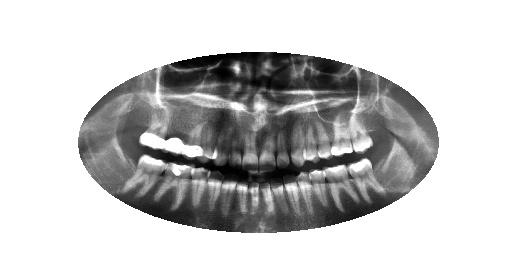Cavity: (219, 173, 238, 217), (258, 129, 277, 172), (243, 126, 258, 173), (236, 175, 250, 215)
Fillings: (154, 163, 192, 210), (139, 112, 168, 149), (185, 116, 204, 158), (162, 124, 184, 156)
